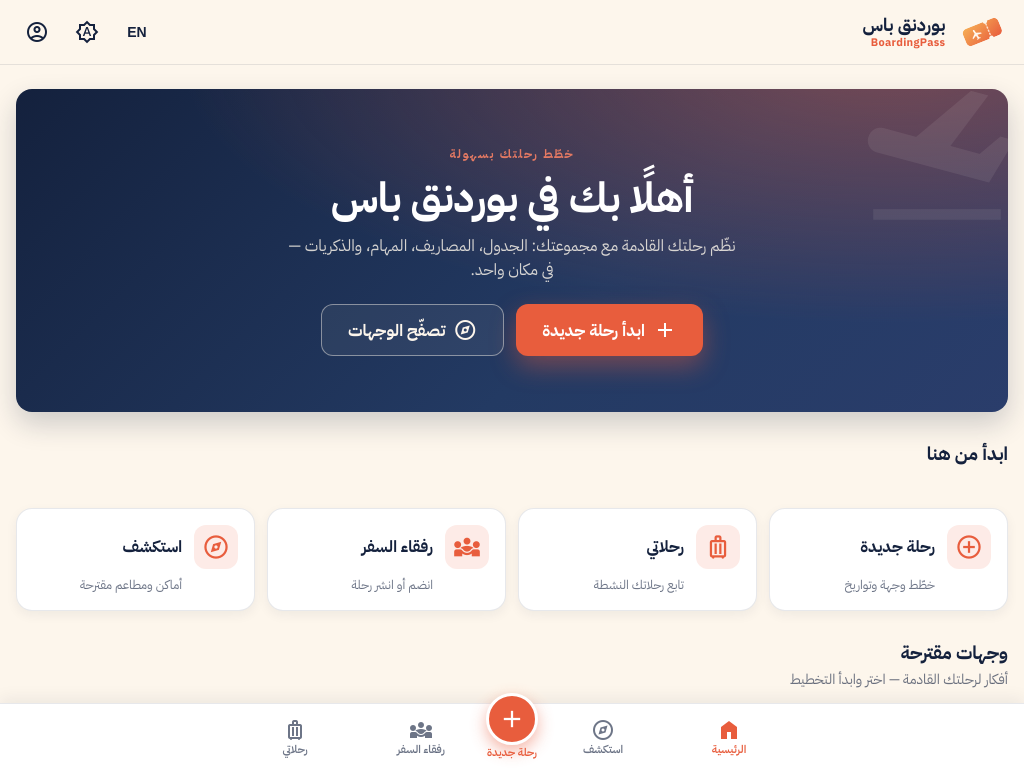
Test: US-001 Authentication › routes a REGISTERED email to the login step
Click the button named "الحساب / تسجيل الدخول" at [37, 32], box [16, 11, 58, 53]
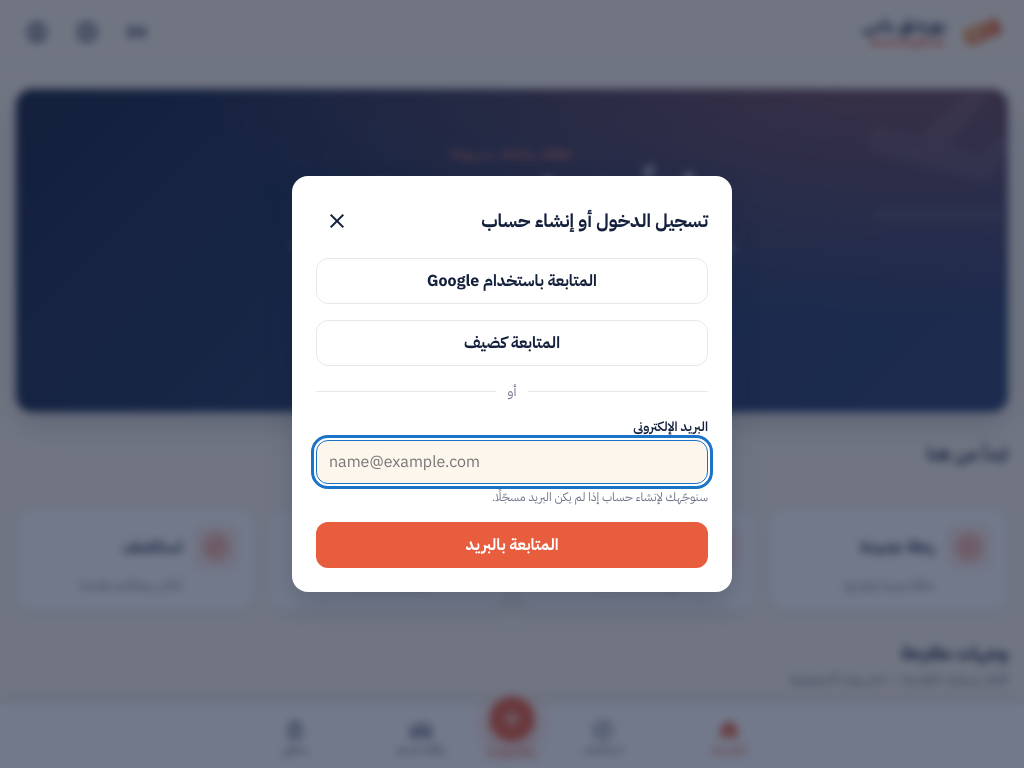
Type "user@example.com" into the field labelled "البريد الإلكتروني" at [512, 462], box [316, 440, 708, 484]
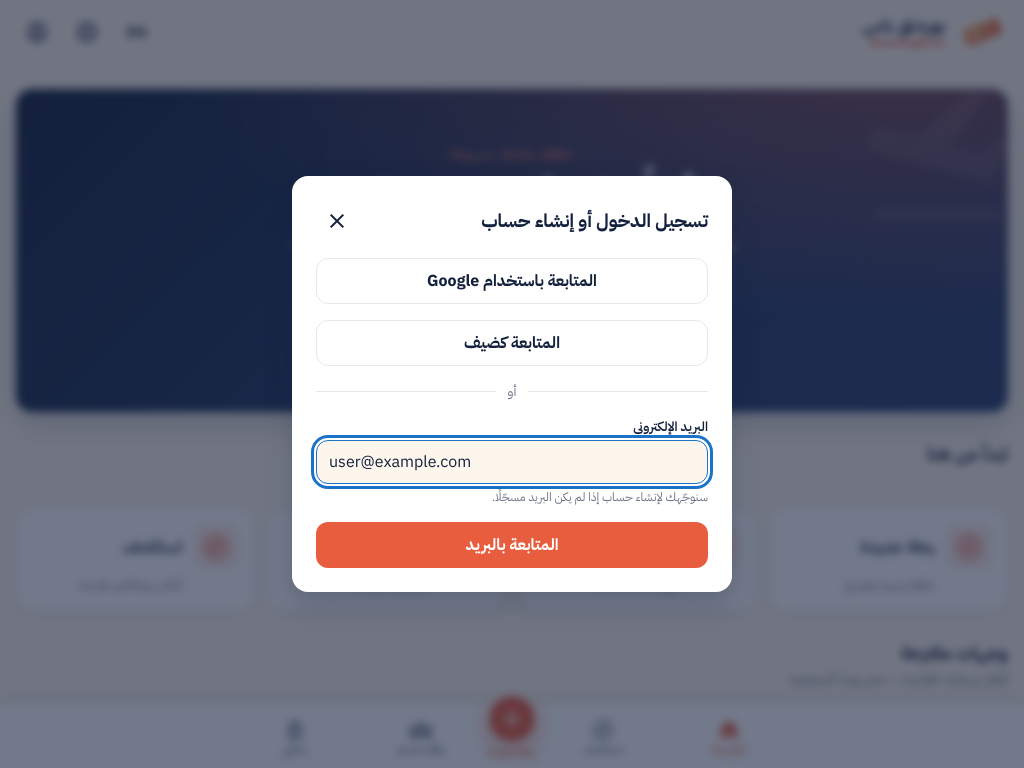
Click the button "المتابعة بالبريد" at [512, 545], box [316, 522, 708, 568]
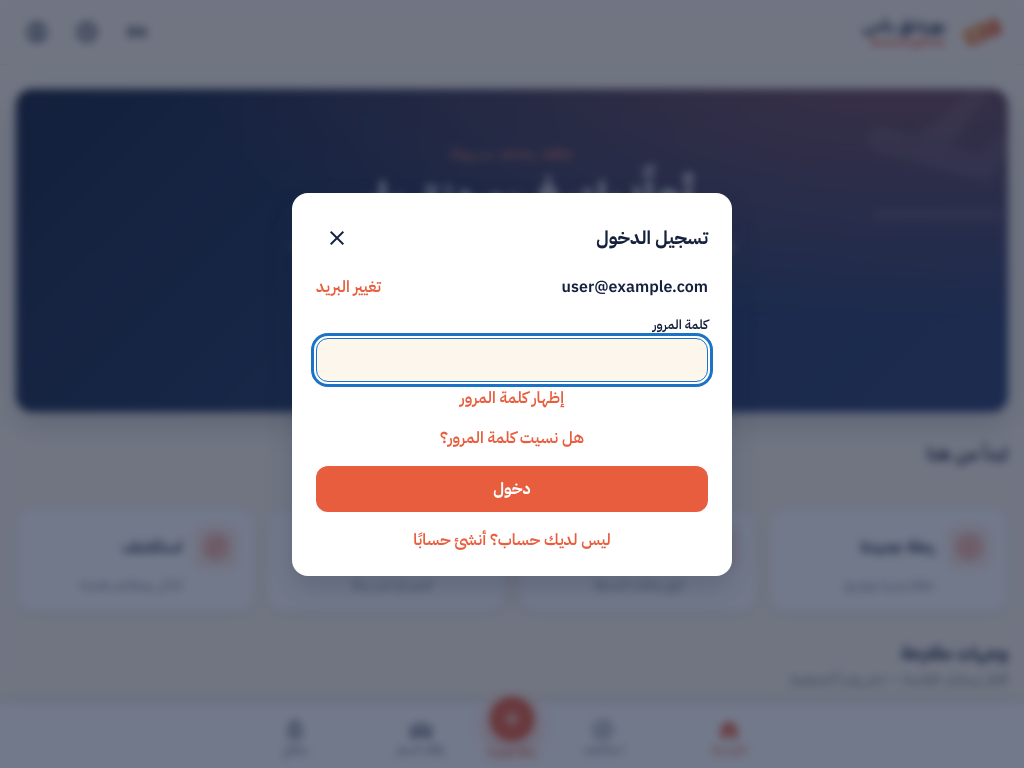
Expected: the password field labelled "كلمة المرور" is shown, [316, 338, 708, 382]
